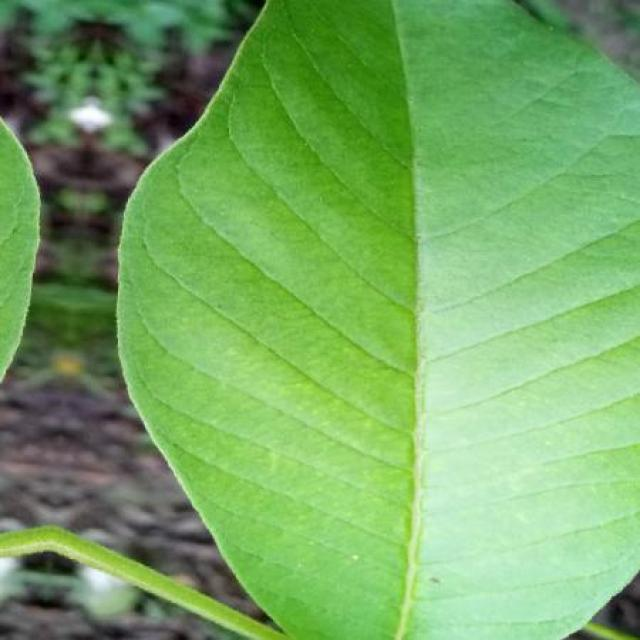Disease Free: (119, 0, 640, 640)
